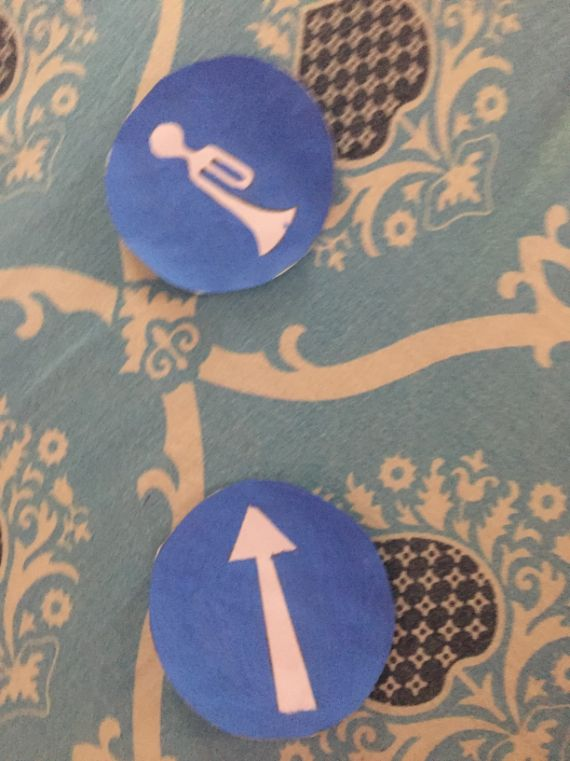blow-horn: (105, 51, 334, 297)
keep-left: (146, 481, 389, 743)
